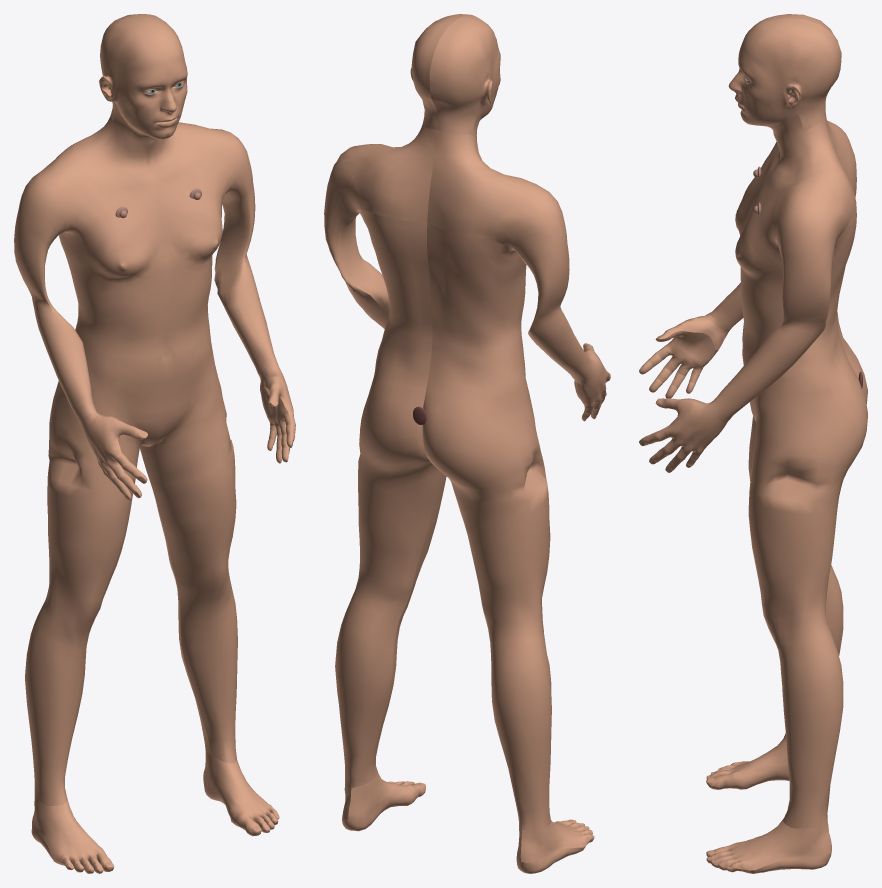
The model's file is body-junger-erwachsener-divers-real-v3.glb.
The picture shows the model from 3 angles, left to right: view 1: azimuth 30°, elevation 25°; view 2: azimuth 150°, elevation 25°; view 3: azimuth 270°, elevation 25°; orthographic projection.
Visible parts, largest first — view 1: real-human-body; view 2: real-human-body; view 3: real-human-body.
Part boxes in pixels (box(x1,y1,x2,y2)): real-human-body: box(14, 14, 295, 873); real-human-body: box(324, 14, 610, 873); real-human-body: box(639, 14, 867, 873).
Size of the model in its own units: 0.5176 by 1.72 by 0.4427.
Materials: 7 (1 with a texture image).
